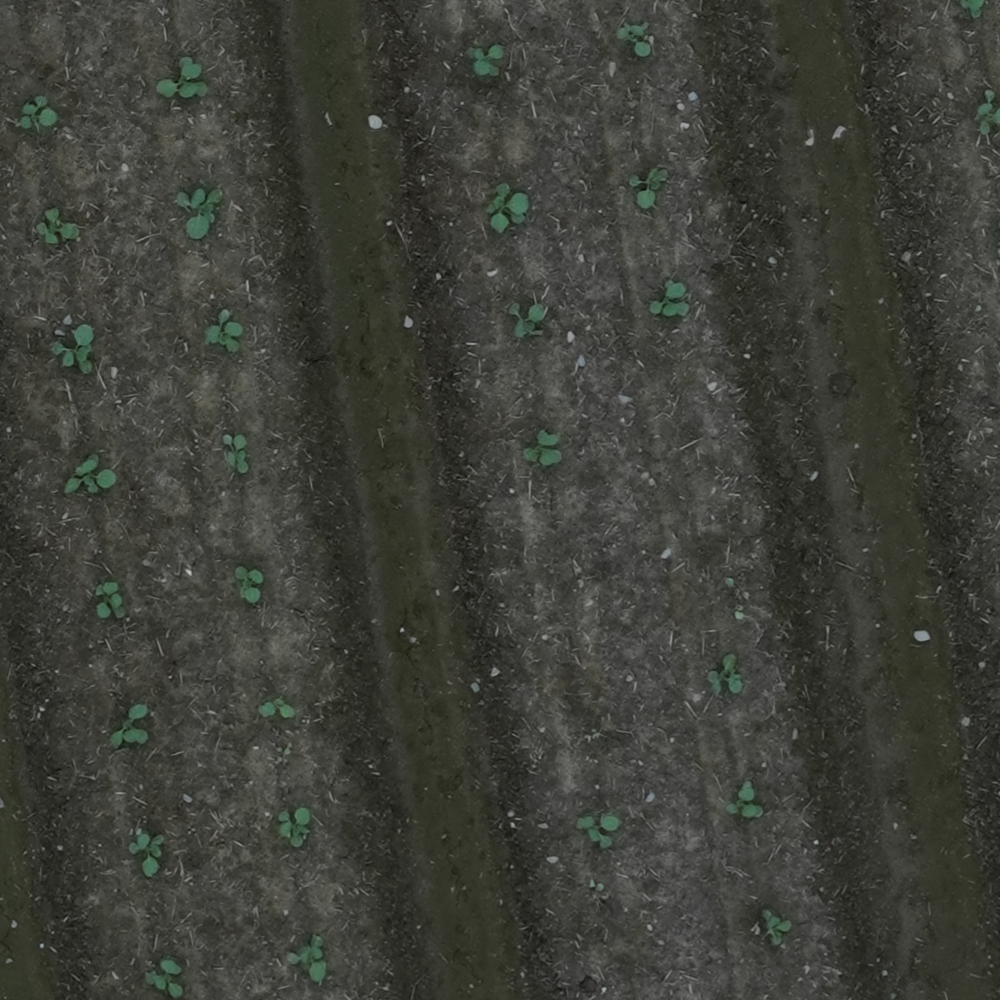Cabbage: (177, 188, 224, 239), (157, 56, 208, 99), (487, 182, 528, 233), (52, 324, 93, 375), (65, 455, 118, 493), (288, 934, 326, 985), (129, 829, 164, 877), (204, 309, 243, 352), (111, 704, 149, 748), (37, 207, 80, 245), (577, 814, 622, 848), (630, 168, 667, 208), (146, 959, 184, 997), (650, 280, 690, 316), (708, 654, 743, 695), (726, 781, 764, 818), (524, 429, 562, 465), (279, 807, 311, 848), (22, 96, 58, 130), (465, 44, 503, 76), (510, 303, 545, 337), (618, 23, 651, 57), (977, 89, 1000, 135), (762, 910, 792, 945), (96, 582, 126, 617), (236, 567, 264, 602), (224, 435, 248, 473), (259, 698, 295, 718), (961, 1, 984, 19), (590, 880, 603, 891)
